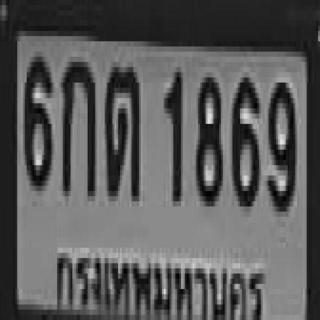A01: (61, 57, 94, 191)
A21: (105, 62, 137, 196)
N01: (162, 64, 181, 199)
N06: (23, 52, 50, 186), (230, 72, 257, 201)
N08: (194, 72, 221, 201)
N09: (267, 77, 293, 206)
P04: (53, 238, 262, 320)
